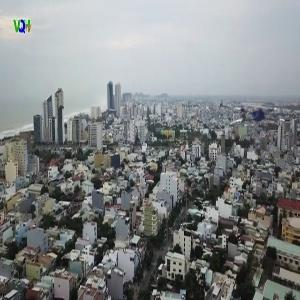drone: (230, 95, 285, 150)
